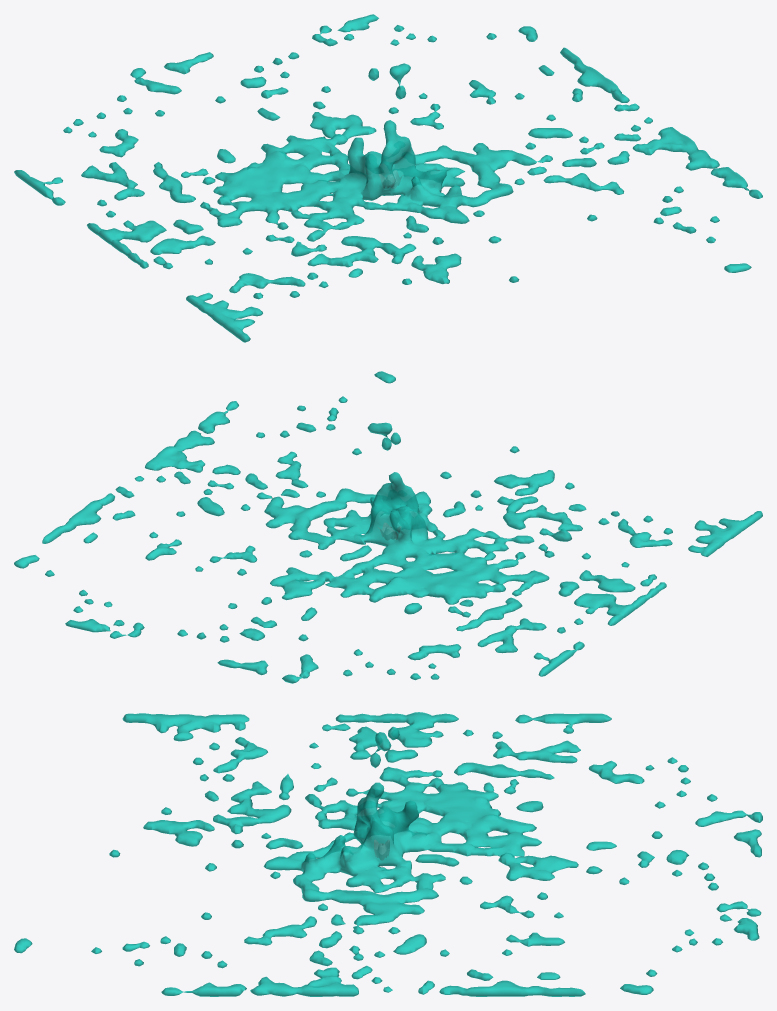
3 views of the same model, one above another, from view 1: azimuth 30°, elevation 25°; view 2: azimuth 150°, elevation 25°; view 3: azimuth 270°, elevation 25° (orthographic). The views are drawn at different scales.
Parts seen in each view (by area): view 1: Liquid_Domain; view 2: Liquid_Domain; view 3: Liquid_Domain.
Part boxes in pixels (x1,y1,x2,y2): Liquid_Domain: [14, 14, 762, 342]; Liquid_Domain: [14, 371, 762, 683]; Liquid_Domain: [14, 712, 762, 996].
Size of the model in its own units: 12.43 by 2.69 by 14.16.
